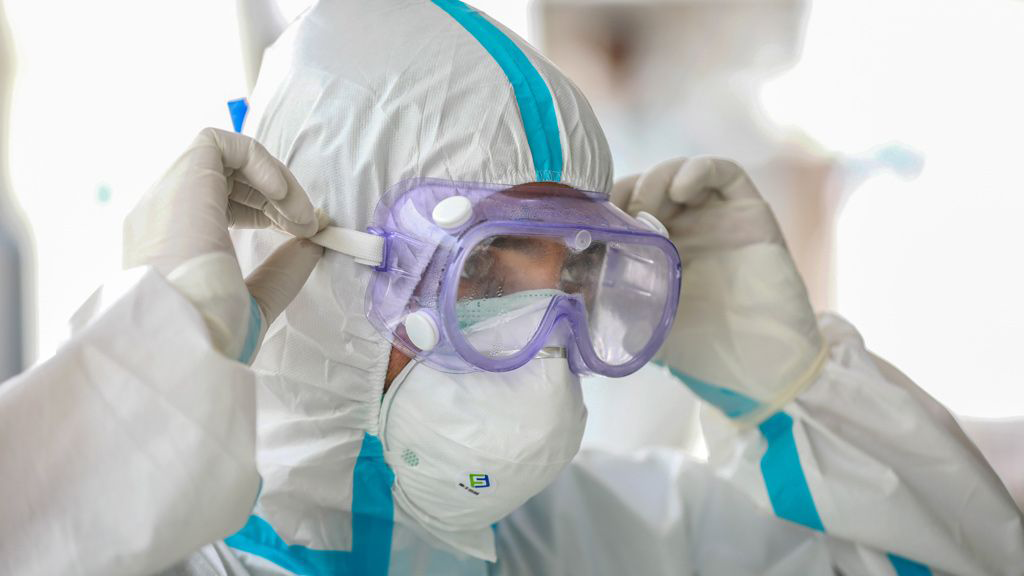Gloves: (126, 126, 334, 366), (647, 152, 829, 412)
Goggles: (381, 176, 689, 378)
Mask: (370, 314, 599, 549)
